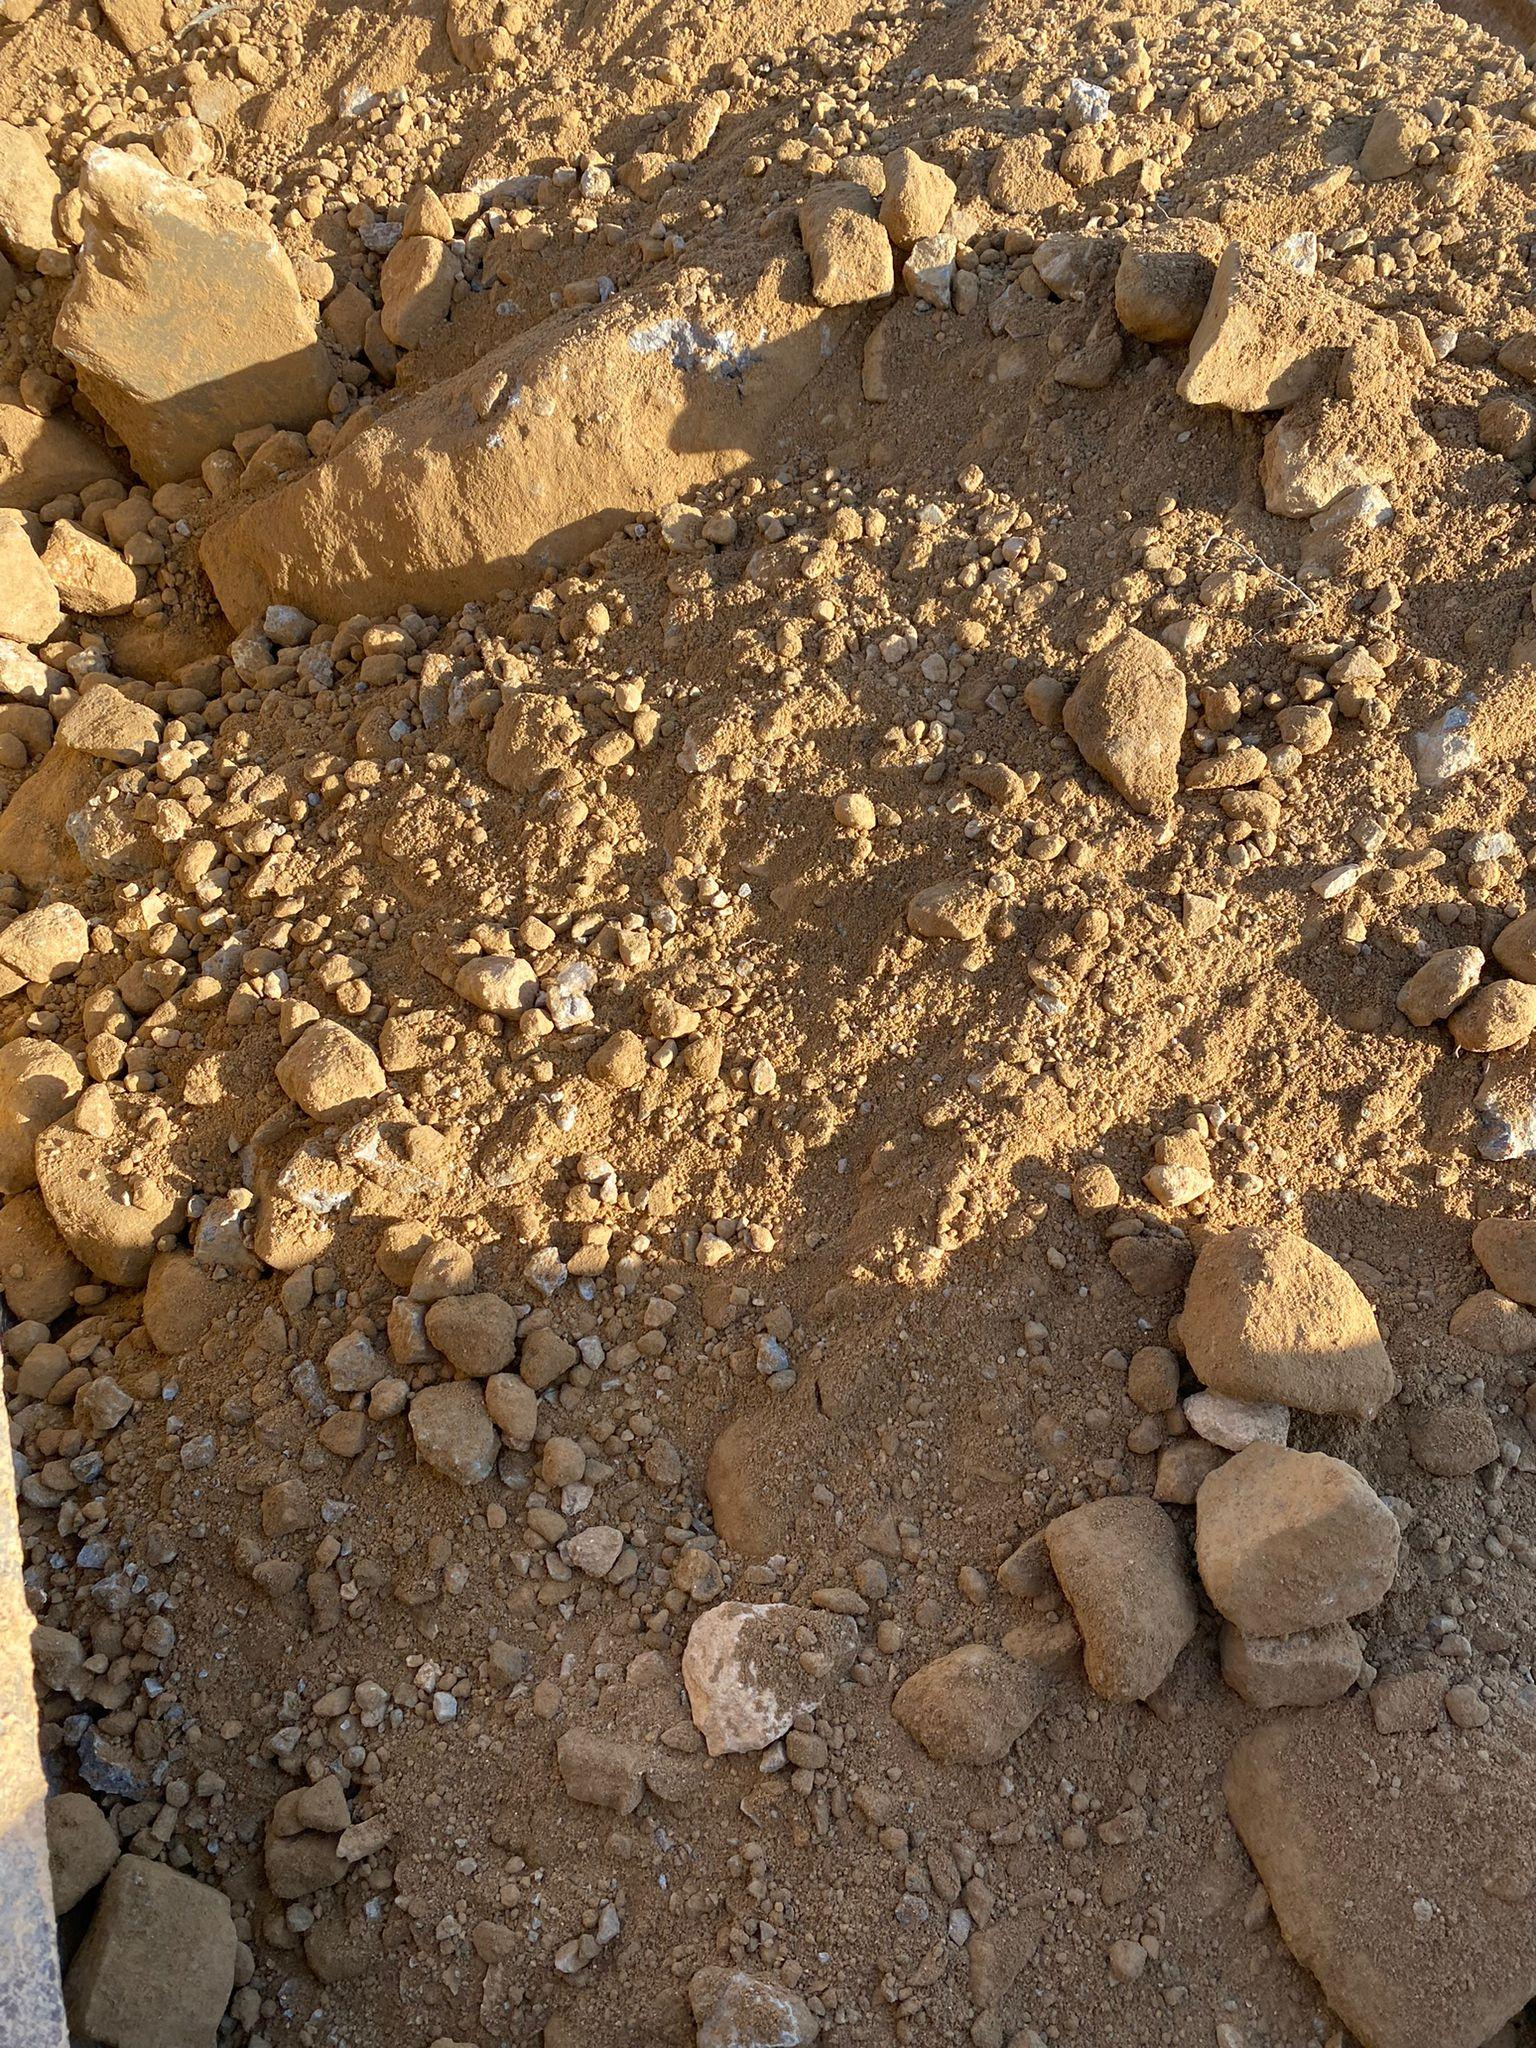dirt: (2, 1, 1533, 2044)
stone: (1221, 1670, 1534, 2045), (49, 141, 335, 488), (1173, 1224, 1397, 1420), (1191, 1438, 1403, 1633), (63, 1853, 239, 2045), (1174, 239, 1367, 413), (1041, 1492, 1196, 1702), (680, 1598, 859, 1758), (1061, 626, 1188, 818), (889, 1641, 1051, 1767), (795, 178, 895, 307), (274, 1018, 387, 1120)
